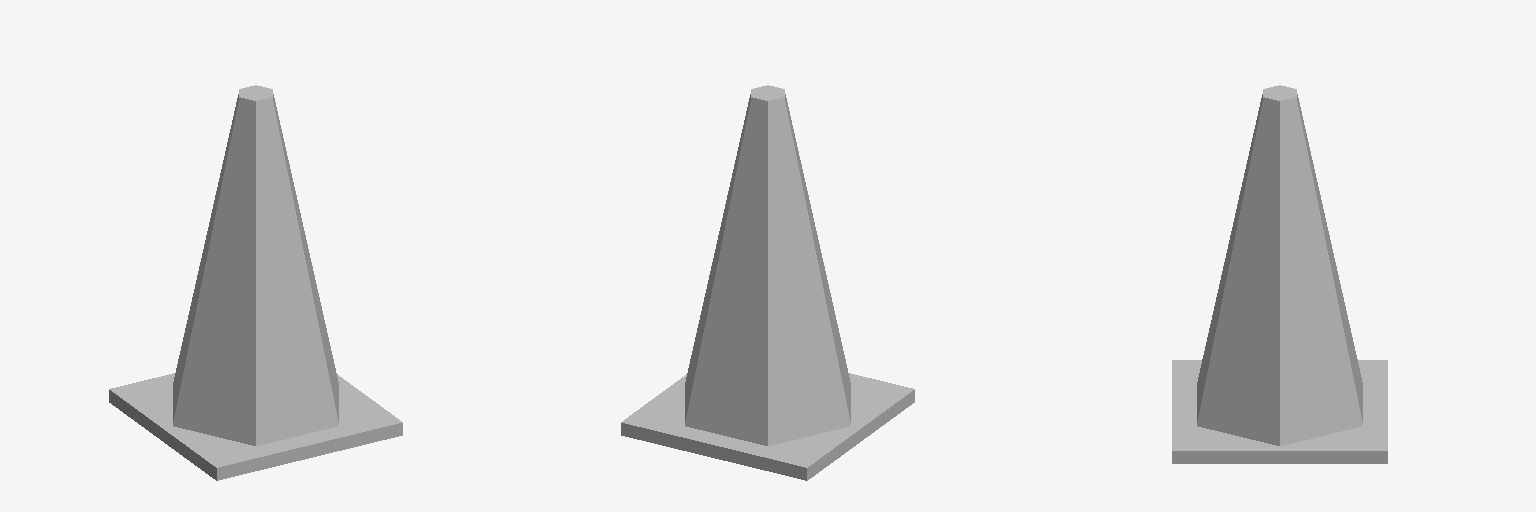
3 views of the same model, side by side, from view 1: azimuth 30°, elevation 25°; view 2: azimuth 150°, elevation 25°; view 3: azimuth 270°, elevation 25° (orthographic).
Visible parts, largest first — view 1: rdmobj00; view 2: rdmobj00; view 3: rdmobj00.
Boxes of the visible parts, <box> form: rdmobj00: <box>109,85,402,480</box>; rdmobj00: <box>621,85,914,480</box>; rdmobj00: <box>1172,85,1387,463</box>.
Size of the model in its own units: 0.45 by 0.7505 by 0.45.